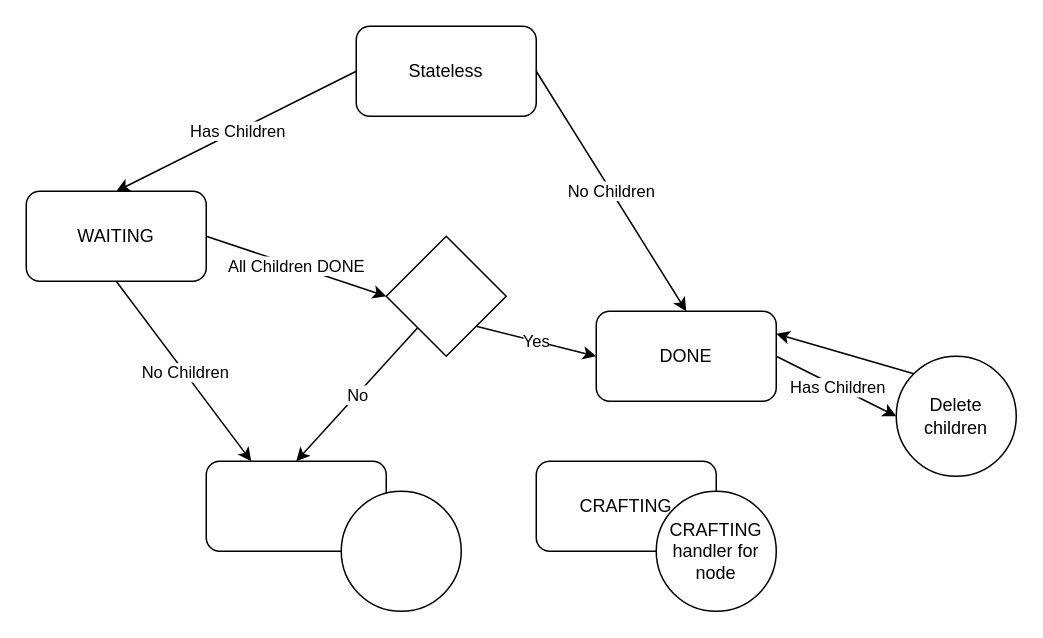
Some shapes in this 1043 by 638 pixel diagram are drawn without their labels. Here are the shapes that lost their labels. From the top down, the centre of each, then its label:
At (x=445, y=295): "Is node ROOT?".
At (x=295, y=505): "READY".
At (x=400, y=550): "READY handler for node".
